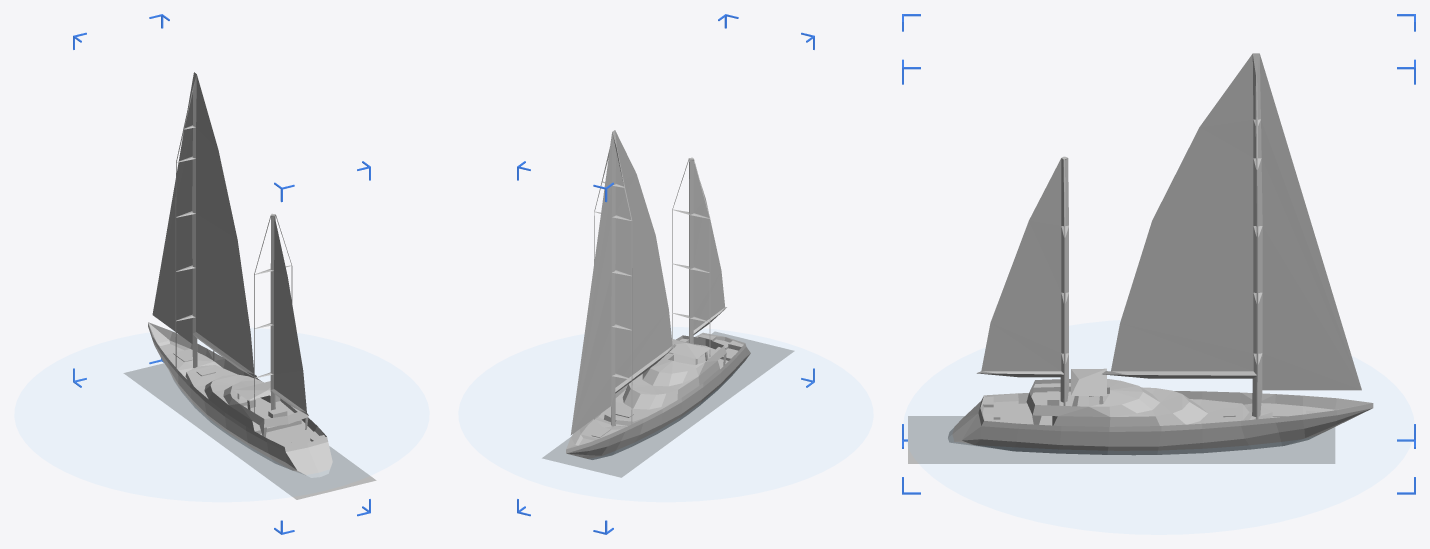
File: SuperSail.glb
3 views of the same model, side by side, from view 1: azimuth 30°, elevation 25°; view 2: azimuth 150°, elevation 25°; view 3: azimuth 270°, elevation 25° (orthographic). The views are drawn at different scales.
Visible parts, largest first — view 1: AIS_Sailboat-Large-A001, SurfaceGraphic_whiteGlow016, BoundingBox; view 2: AIS_Sailboat-Large-A001, SurfaceGraphic_whiteGlow016, BoundingBox; view 3: AIS_Sailboat-Large-A001, SurfaceGraphic_whiteGlow016, BoundingBox.
Boxes of the visible parts, <box> form: AIS_Sailboat-Large-A001: <box>148,72,332,477</box>; SurfaceGraphic_whiteGlow016: <box>123,363,376,499</box>; BoundingBox: <box>73,14,370,534</box>; AIS_Sailboat-Large-A001: <box>566,130,750,459</box>; SurfaceGraphic_whiteGlow016: <box>542,331,794,477</box>; BoundingBox: <box>517,14,814,534</box>; AIS_Sailboat-Large-A001: <box>948,53,1373,455</box>; SurfaceGraphic_whiteGlow016: <box>908,416,1335,463</box>; BoundingBox: <box>902,14,1415,494</box>.
Size of the model in its own units: 30.14 by 27.74 by 30.25.
